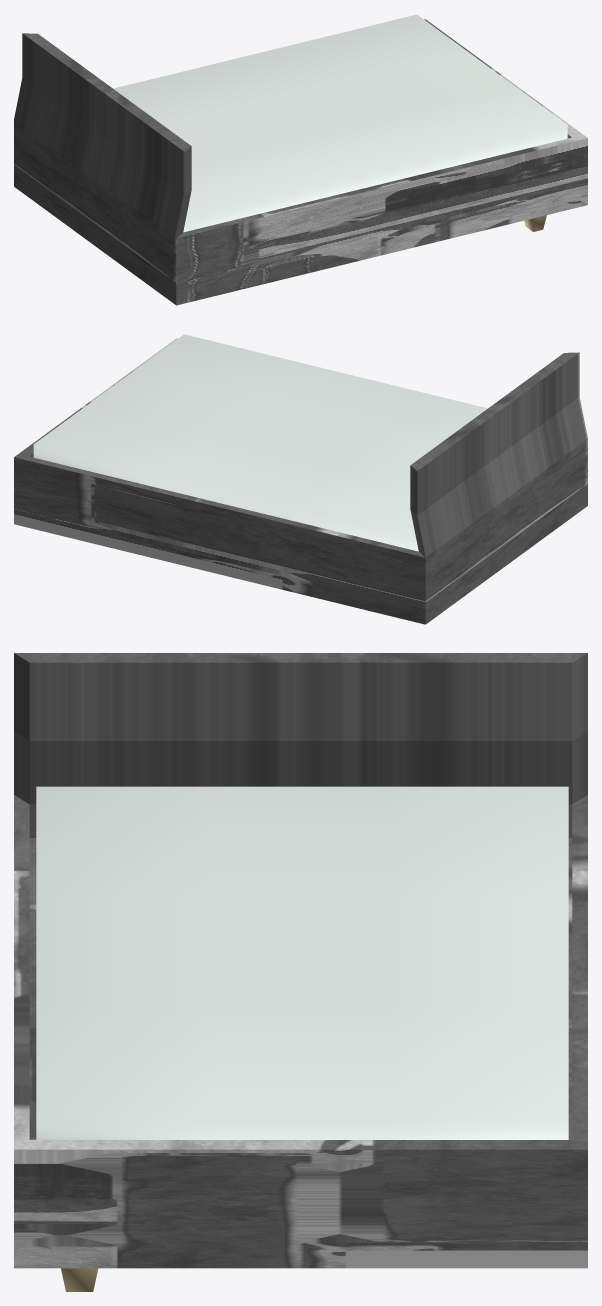
Rendered from bed1.glb.
The picture shows the model from 3 angles, top to bottom: view 1: azimuth 30°, elevation 25°; view 2: azimuth 150°, elevation 25°; view 3: azimuth 270°, elevation 25°; orthographic projection. The views are drawn at different scales.
Visible parts, largest first — view 1: Cube, Cube.001; view 2: Cube, Cube.001; view 3: Cube.001, Cube.
Part boxes in pixels (x1,y1,x2,y2): Cube: (14, 19, 587, 305); Cube.001: (113, 14, 567, 232); Cube: (14, 338, 587, 624); Cube.001: (33, 334, 487, 551); Cube.001: (36, 786, 568, 1139); Cube: (14, 653, 587, 1268).
Bounding box in the file's own units: 16.38 × 6.82 × 11.19.
3 materials, 1 textured.
